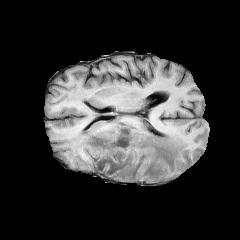glioma: (68, 119, 188, 180)
